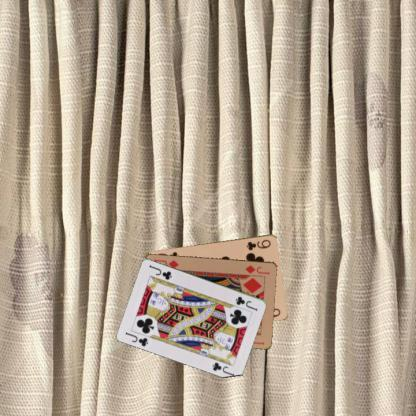9c: (244, 237, 272, 251)
Jc: (123, 330, 150, 348), (233, 294, 259, 312)
Jd: (242, 262, 272, 276)
